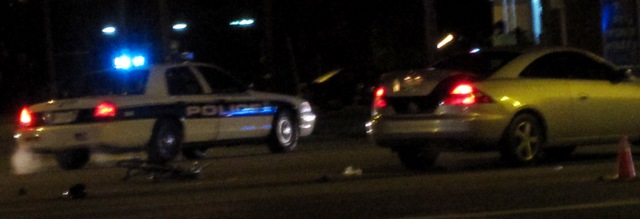car: (9, 52, 324, 175)
